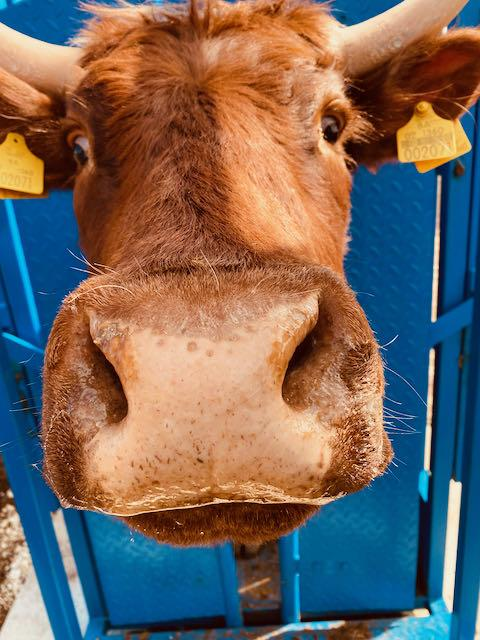muzzles: (20, 275, 400, 546)
